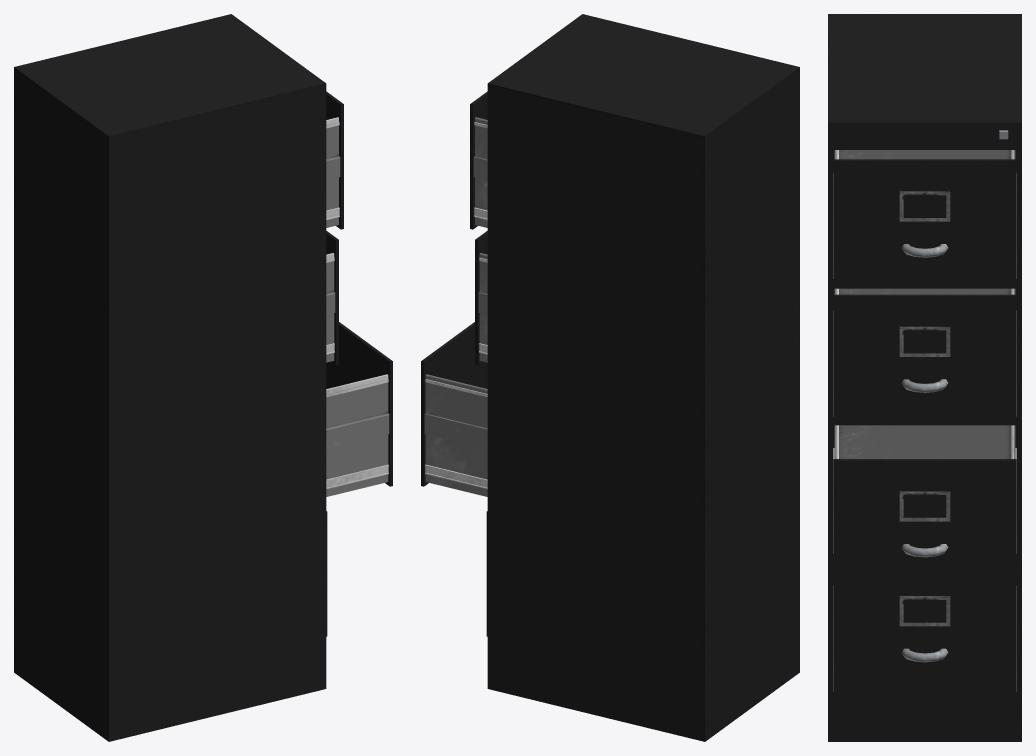
File: office free.unity_5.obj
3 renders of one model, left to right at view 1: azimuth 30°, elevation 25°; view 2: azimuth 150°, elevation 25°; view 3: azimuth 270°, elevation 25°, orthographic. The views are drawn at different scales.
Visible parts, largest first — view 1: cabinet, drawer3, drawer1, drawer2; view 2: cabinet, drawer3, drawer1, drawer2; view 3: cabinet, drawer3, drawer1, drawer2, drawer4.
Boxes of the visible parts, box(x1,y1,x2,y2) form: cabinet: box(14, 14, 326, 741); drawer3: box(326, 322, 392, 496); drawer1: box(326, 91, 343, 229); drawer2: box(326, 231, 338, 365); cabinet: box(487, 14, 799, 741); drawer3: box(421, 322, 487, 496); drawer1: box(470, 91, 487, 229); drawer2: box(475, 231, 487, 365); cabinet: box(828, 14, 1021, 741); drawer3: box(833, 425, 1016, 588); drawer1: box(833, 150, 1016, 288); drawer2: box(833, 288, 1016, 423); drawer4: box(833, 588, 1016, 693).
Size of the model in its own units: 4.96 by 9.55 by 2.71.
